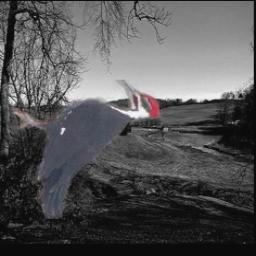Woodpecker: (11, 81, 163, 220)
